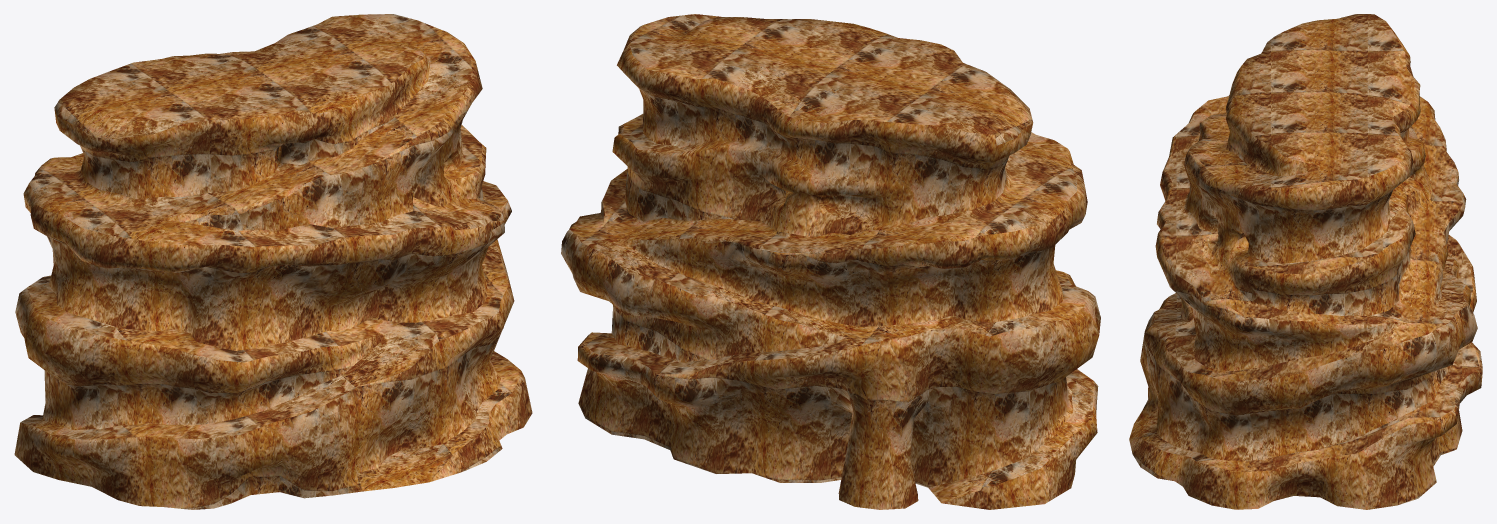
Rendered from rock_01.obj.
3 renders of one model, left to right at view 1: azimuth 30°, elevation 25°; view 2: azimuth 150°, elevation 25°; view 3: azimuth 270°, elevation 25°, orthographic. The views are drawn at different scales.
Visible parts, largest first — view 1: (null); view 2: (null); view 3: (null).
Part boxes in pixels (x1,y1,x2,y2): (null): (14, 14, 532, 509); (null): (561, 14, 1100, 509); (null): (1129, 14, 1482, 509).
Bounding box in the file's own units: 133 × 96.91 × 95.97.
2 materials, 2 textured.
